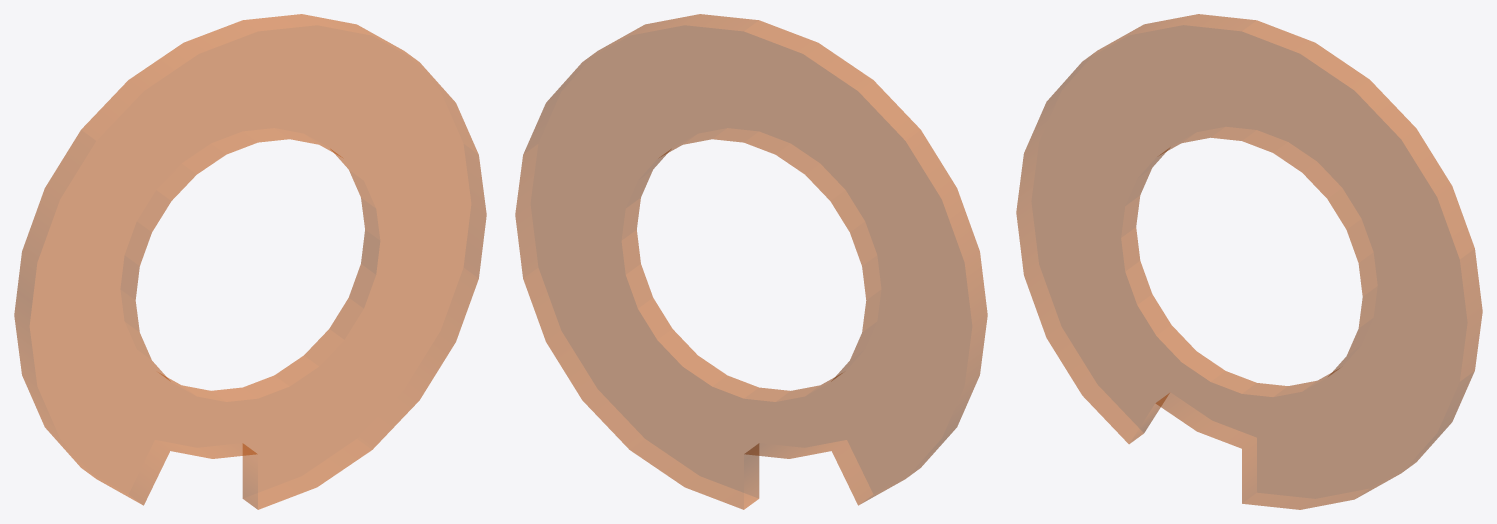
The model's file is obstacle_C.fbx.
3 renders of one model, left to right at view 1: azimuth 30°, elevation 25°; view 2: azimuth 150°, elevation 25°; view 3: azimuth 330°, elevation 25°, orthographic.
Parts seen in each view (by area): view 1: pCylinder11; view 2: pCylinder11; view 3: pCylinder11.
Part boxes in pixels (bbox=[...]): pCylinder11: bbox=[14, 14, 486, 509]; pCylinder11: bbox=[515, 14, 987, 509]; pCylinder11: bbox=[1016, 14, 1482, 509].
Bounding box in the file's own units: 6.84 × 6.84 × 0.3986.
